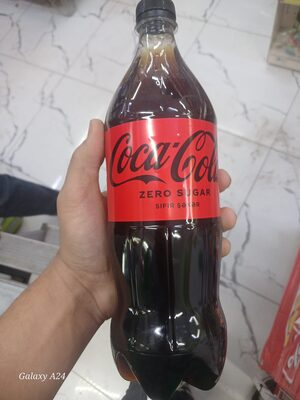Cocacola zero sugar: (15, 20, 285, 380)
